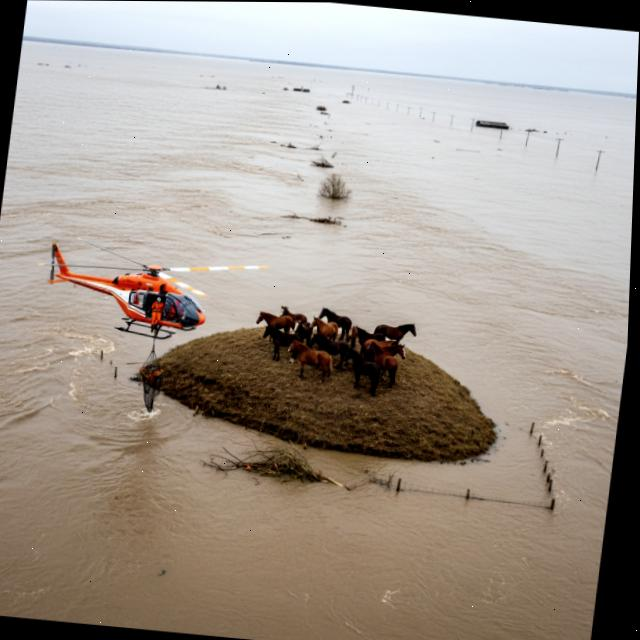horse: (338, 342, 384, 399), (282, 338, 338, 384), (255, 321, 306, 363), (300, 329, 351, 371), (362, 341, 402, 390), (314, 305, 355, 345), (370, 316, 419, 347), (361, 336, 410, 364), (252, 309, 295, 339), (306, 315, 340, 345), (348, 324, 389, 348), (274, 302, 309, 328), (286, 318, 314, 345)
rescuer: (145, 294, 166, 334)
